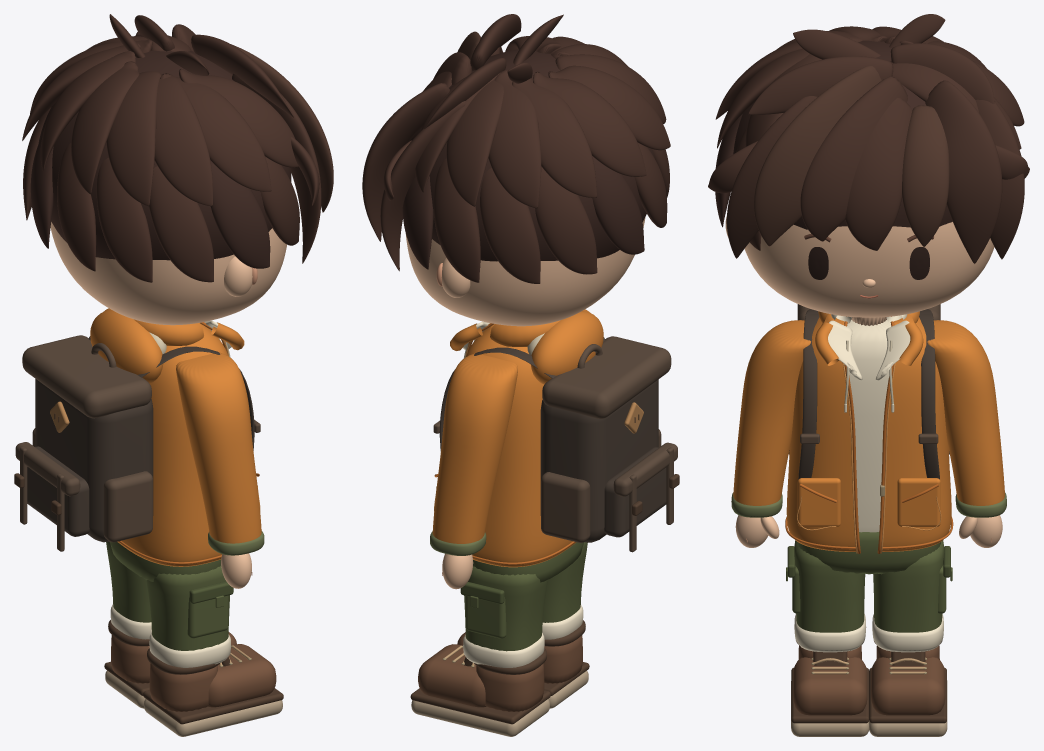
File: camper_male_sculpt_high.glb
3 views of the same model, side by side, from view 1: azimuth 30°, elevation 25°; view 2: azimuth 150°, elevation 25°; view 3: azimuth 270°, elevation 25° (orthographic).
Parts seen in each view (by area): view 1: Sleeve_-1, Jacket | tailored open body, Head | soft cheeks, Backpack | main, Backpack | top flap, Hair | crown 07, Hair | crown 08, Hair | crown 06, Hair | underlying cap, Hair | lower 07, Hair | lower 06, Trouser leg_-1 (+39 smaller); view 2: Sleeve_1, Jacket | tailored open body, Head | soft cheeks, Backpack | main, Backpack | top flap, Hair | crown 02, Hair | crown 03, Hair | crown 04, Hair | lower 02, Hair | crown 01, Hair | lower 03, Trouser leg_1 (+38 smaller); view 3: Jacket | tailored open body, Head | soft cheeks, Sleeve_-1, Sleeve_1, Hair | fringe 06, Hair | fringe 02, Hair | fringe 03, Hair | fringe 04, Cream hoodie | torso, Hair | fringe 05, Trouser leg_-1, Trouser leg_1 (+40 smaller).
Boxes of the visible parts, x1,y1,x2,y2 form: Sleeve_-1: (176, 352, 261, 543); Jacket | tailored open body: (117, 323, 228, 566); Head | soft cheeks: (50, 222, 286, 325); Backpack | main: (35, 379, 153, 542); Backpack | top flap: (22, 335, 151, 418); Hair | crown 07: (154, 76, 212, 206); Hair | crown 08: (160, 73, 271, 191); Hair | crown 06: (106, 71, 161, 206); Hair | underlying cap: (38, 50, 291, 260); Hair | lower 07: (149, 166, 213, 282); Hair | lower 06: (96, 158, 152, 282); Trouser leg_-1: (146, 565, 229, 650); Sleeve_1: (432, 353, 517, 543); Jacket | tailored open body: (465, 324, 576, 567); Head | soft cheeks: (405, 218, 645, 326); Backpack | main: (540, 379, 658, 542); Backpack | top flap: (542, 336, 671, 418); Hair | crown 02: (488, 70, 541, 208); Hair | crown 03: (512, 78, 596, 197); Hair | crown 04: (533, 71, 646, 176); Hair | lower 02: (480, 168, 540, 283); Hair | crown 01: (446, 80, 503, 206); Hair | lower 03: (535, 167, 597, 274); Trouser leg_1: (464, 566, 547, 651); Jacket | tailored open body: (786, 314, 951, 551); Head | soft cheeks: (744, 222, 994, 317); Sleeve_-1: (733, 320, 810, 505); Sleeve_1: (927, 320, 1004, 505); Hair | fringe 06: (925, 80, 1002, 263); Hair | fringe 02: (754, 66, 881, 246); Hair | fringe 03: (800, 76, 907, 241); Hair | fringe 04: (845, 98, 912, 250); Cream hoodie | torso: (847, 320, 891, 532); Hair | fringe 05: (902, 105, 949, 246); Trouser leg_-1: (794, 540, 865, 632); Trouser leg_1: (873, 540, 944, 632).
Size of the model in its own units: 0.5314 by 1.36 by 0.587.
